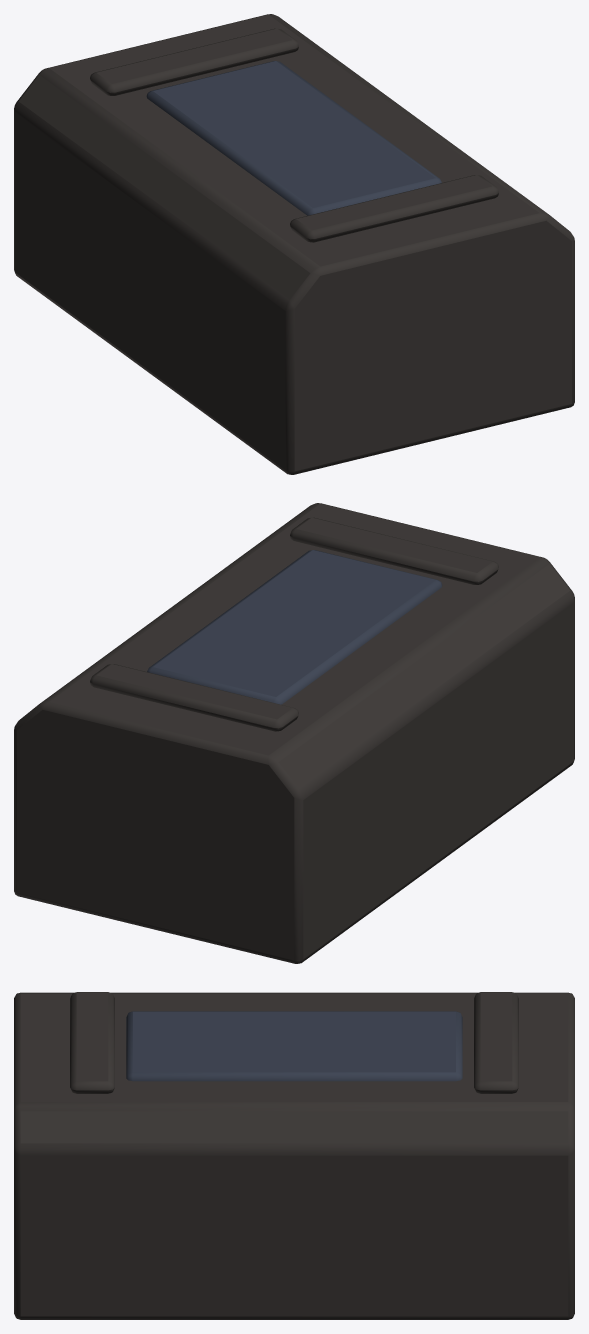
Rendered from ware_graphit.fbx.
3 views of the same model, one above another, from view 1: azimuth 30°, elevation 25°; view 2: azimuth 150°, elevation 25°; view 3: azimuth 270°, elevation 25° (orthographic).
Visible parts, largest first — view 1: ware_graphit_Koerper; view 2: ware_graphit_Koerper; view 3: ware_graphit_Koerper.
Part boxes in pixels (bbox=[...]): ware_graphit_Koerper: bbox=[14, 14, 574, 474]; ware_graphit_Koerper: bbox=[14, 503, 574, 963]; ware_graphit_Koerper: bbox=[14, 992, 574, 1319].
Bounding box in the file's own units: 0.3 × 0.211 × 0.5.
